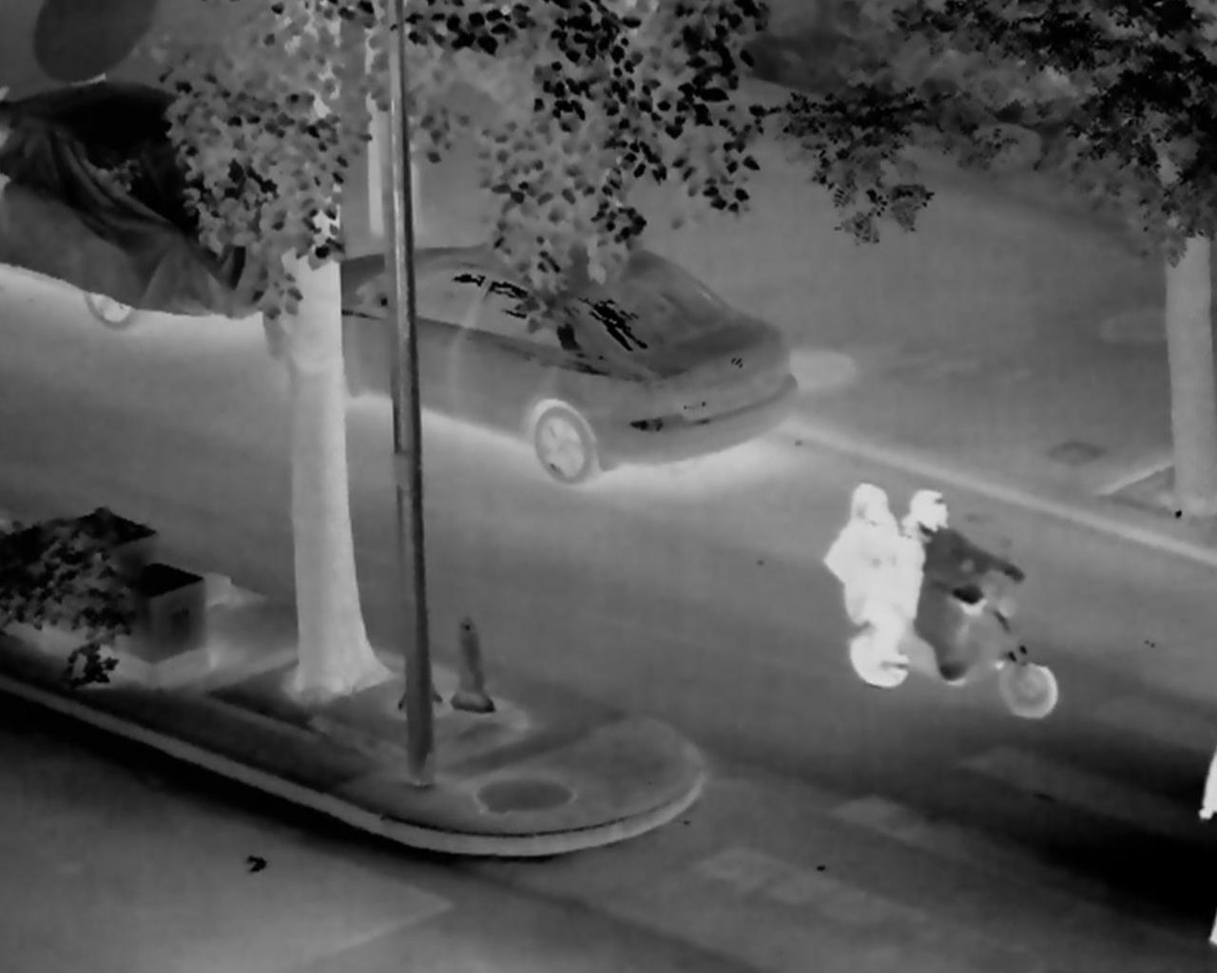person: (890, 488, 1008, 659), (822, 484, 904, 649)
